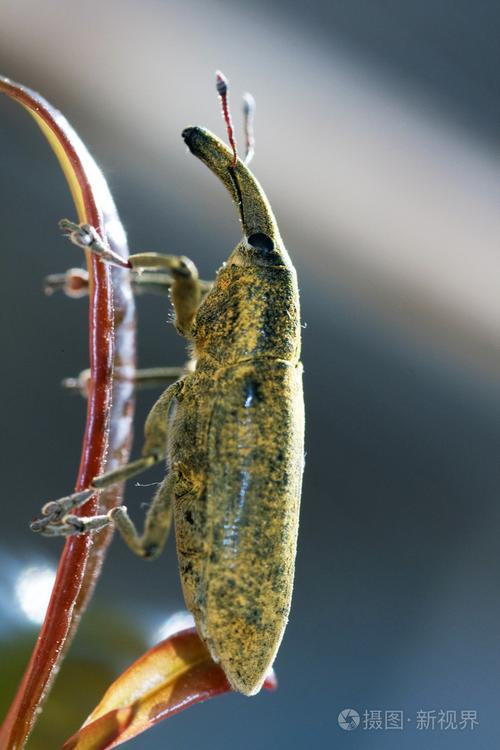Curculionidae: (27, 69, 306, 698)
